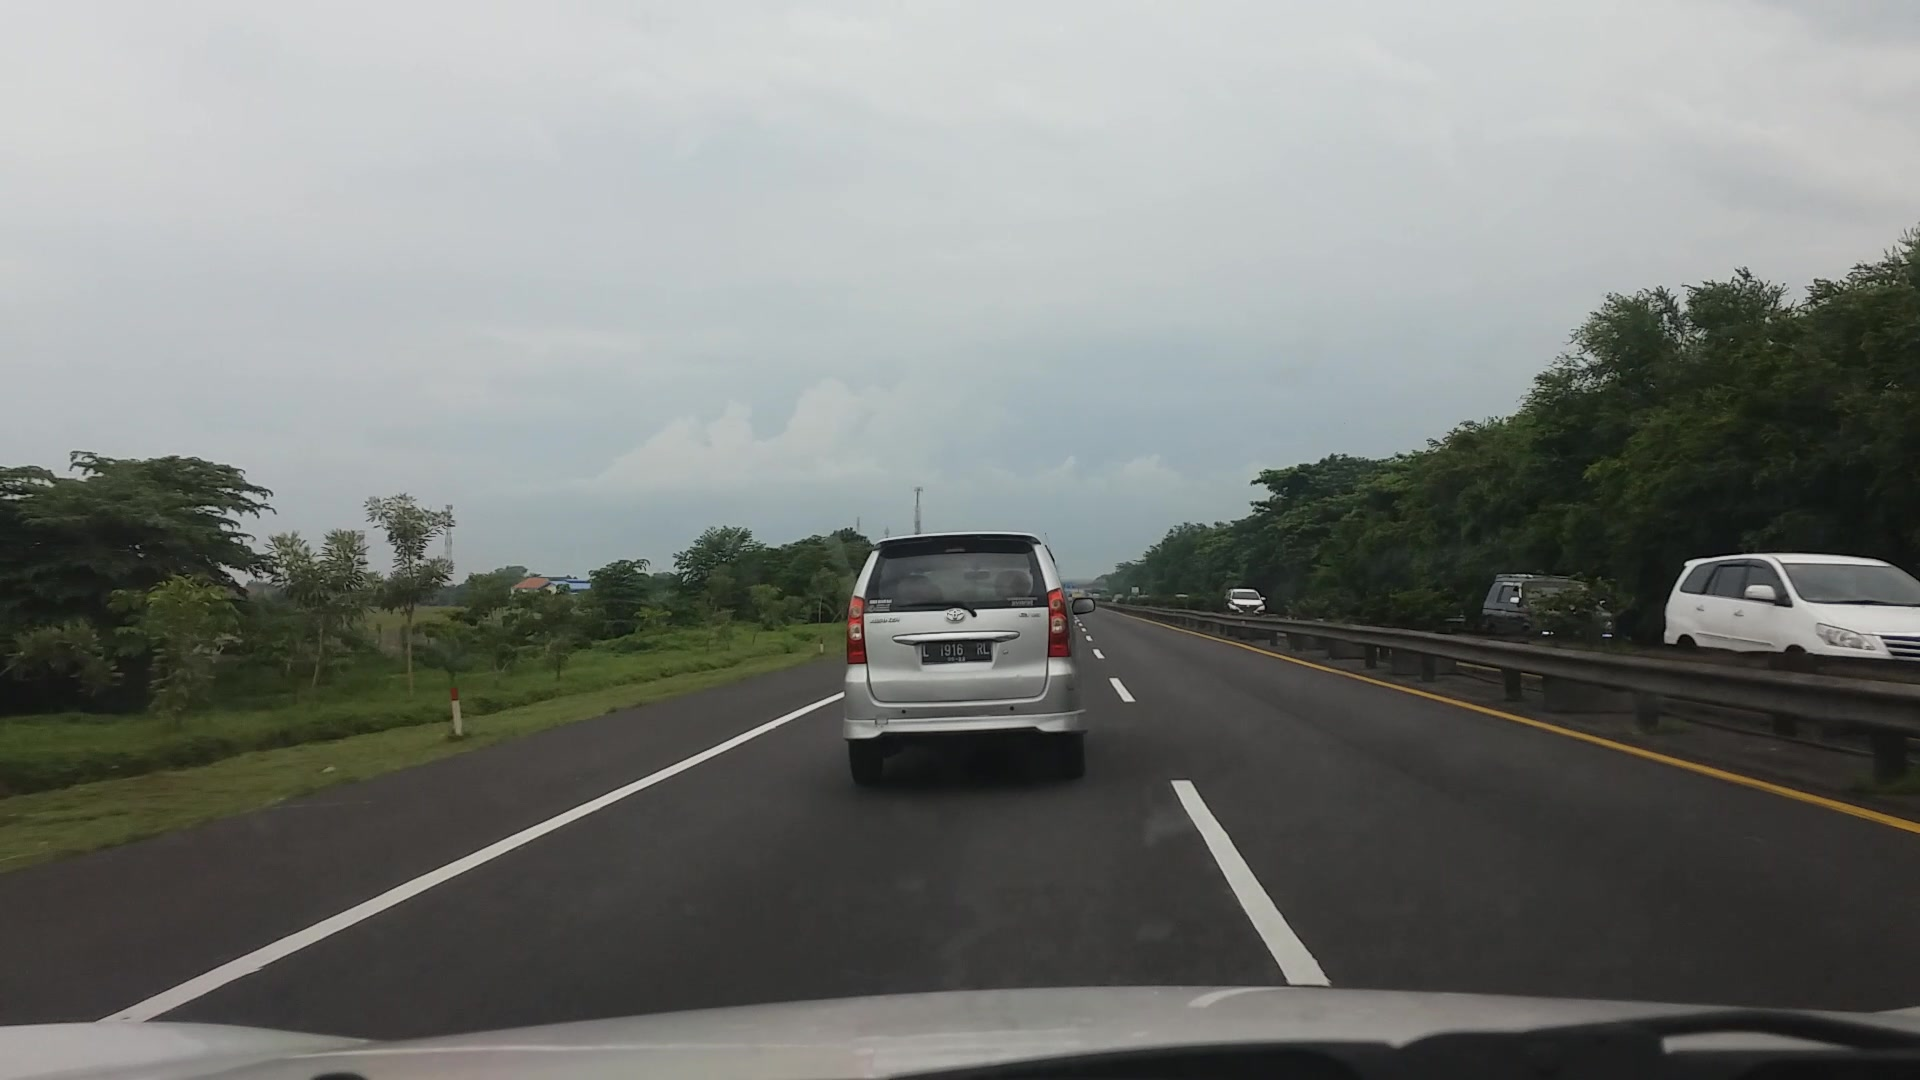plate_positive: (920, 640, 992, 663)
